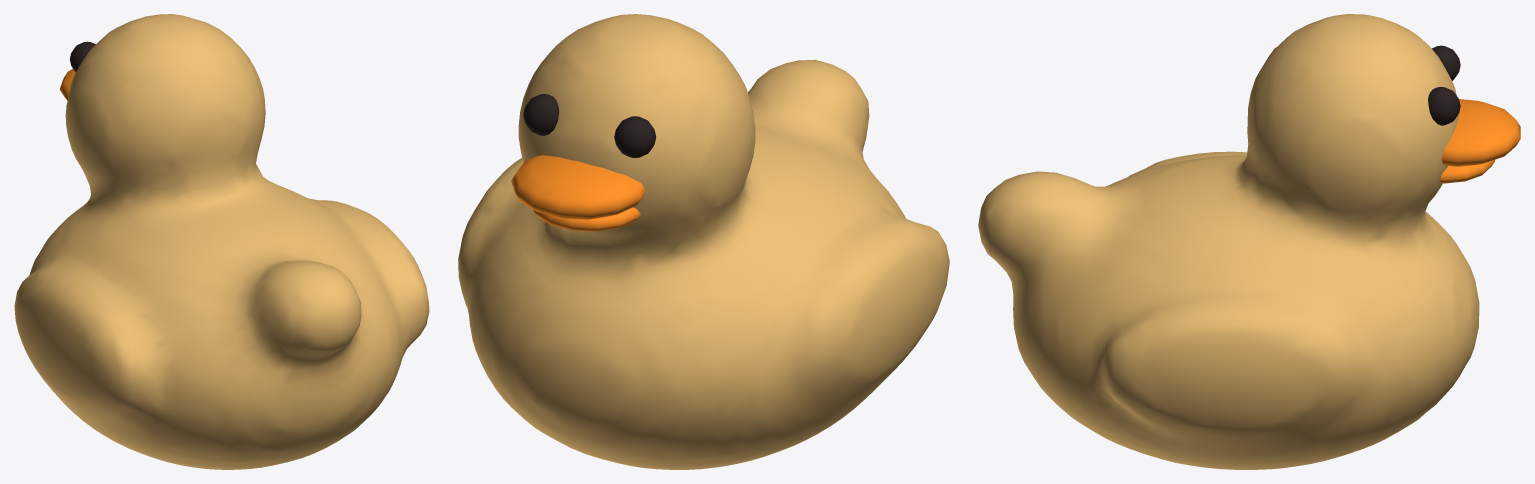
Rendered from MessyMemoryDuck.obj.
3 renders of one model, left to right at view 1: azimuth 30°, elevation 25°; view 2: azimuth 150°, elevation 25°; view 3: azimuth 270°, elevation 25°, orthographic. The views are drawn at different scales.
Visible parts, largest first — view 1: Body; view 2: Body, Beak, Face; view 3: Body, Beak, Face.
Part boxes in pixels (x1,y1,x2,y2): Body: (14, 14, 429, 469); Body: (458, 14, 949, 469); Beak: (511, 155, 646, 231); Face: (523, 94, 656, 158); Body: (978, 14, 1479, 469); Beak: (1439, 99, 1520, 183); Face: (1428, 45, 1460, 125).
Bounding box in the file's own units: 1.34 × 1.43 × 1.67.
